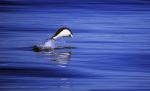fish: (47, 27, 75, 43)
